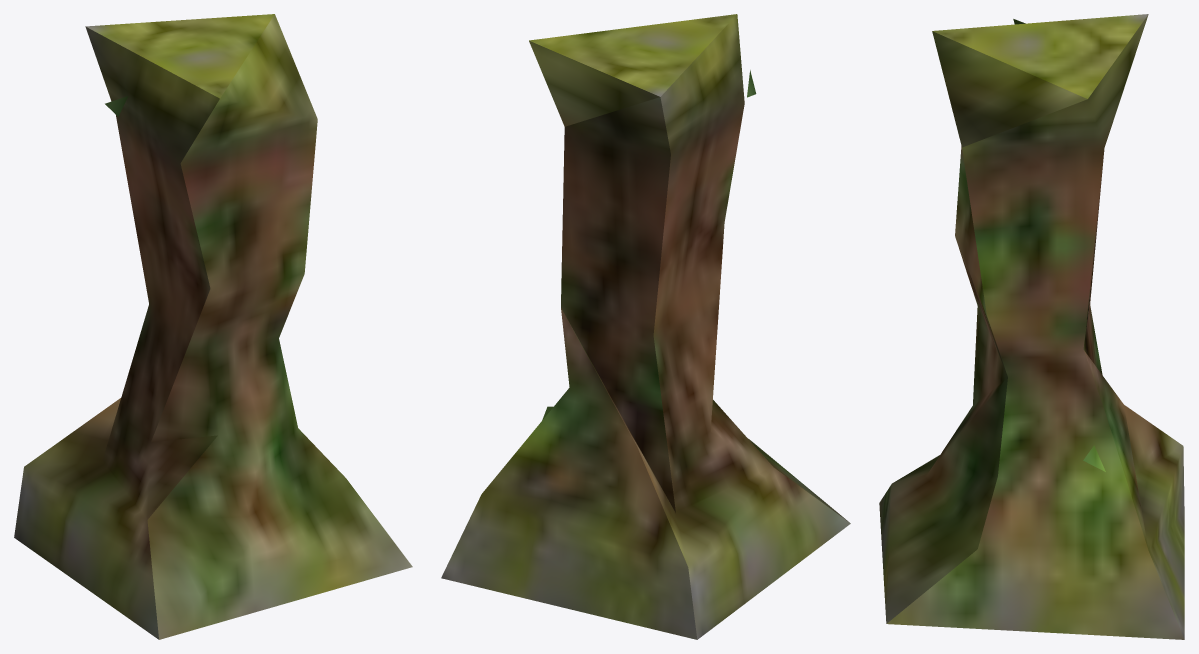
The model's file is b_racines_pilier_lod2.glb.
3 views of the same model, side by side, from view 1: azimuth 30°, elevation 25°; view 2: azimuth 150°, elevation 25°; view 3: azimuth 270°, elevation 25° (orthographic). The views are drawn at different scales.
Visible parts, largest first — view 1: geometry_0; view 2: geometry_0; view 3: geometry_0.
Boxes of the visible parts, x1,y1,x2,y2 form: geometry_0: (14, 14, 412, 639); geometry_0: (441, 14, 850, 639); geometry_0: (879, 14, 1184, 639).
Bounding box in the file's own units: 1 × 1.9 × 1.
1 material, 1 textured.
